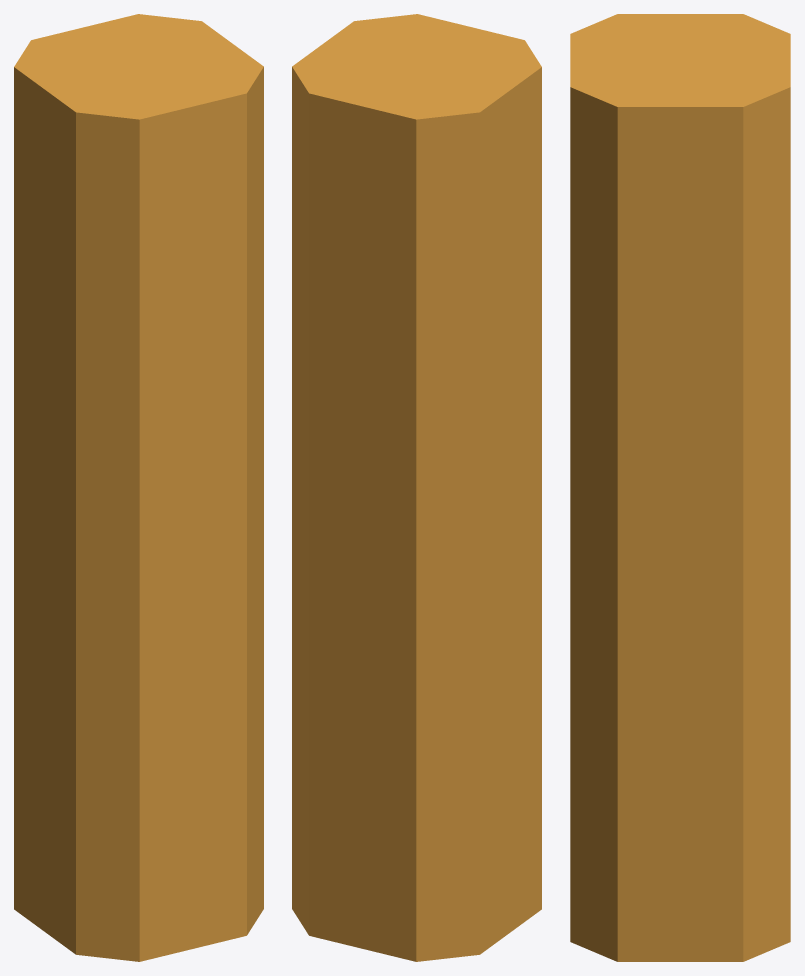
Rendered from scifi-scifi-pillar.glb.
The picture shows the model from 3 angles, left to right: view 1: azimuth 30°, elevation 25°; view 2: azimuth 150°, elevation 25°; view 3: azimuth 270°, elevation 25°; orthographic projection.
Parts seen in each view (by area): view 1: scifi-pillar; view 2: scifi-pillar; view 3: scifi-pillar.
Boxes of the visible parts, x1,y1,x2,y2 form: scifi-pillar: (14, 14, 263, 961); scifi-pillar: (292, 14, 541, 961); scifi-pillar: (570, 14, 790, 961).
Size of the model in its own units: 0.7003 by 3 by 0.7003.
